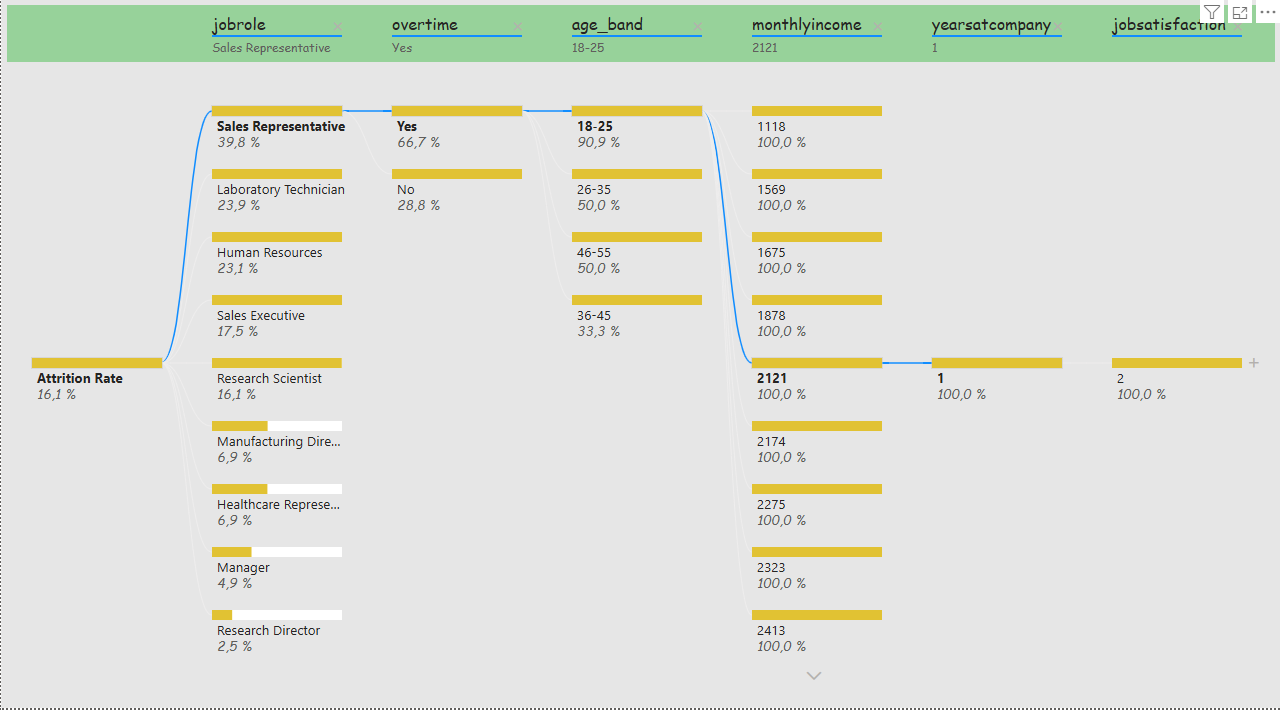

This screenshot's page, from the dashboard's own definition file:
{"tool":"powerbi","page":{"name":"Seite 2","canvas":[1280,720],"ordinal":1},"visuals":[{"type":"decompositionTreeVisual","fields":{"Analyze":["Meansures.Attrition Rate"],"ExplainBy":["Dim_JobRole.jobrole","fact_HR.overtime","Dim_AgeBand.age_band","fact_HR.monthlyincome","fact_HR.yearsatcompany","fact_HR.jobsatisfaction","Dim_TenureBand.tenure_band","Dim_Department.department","fact_HR.environmentsatisfaction"]},"box":[0,11,1280,709],"z":0}]}

Visuals, with their boxes on the page's 1280x720 design canvas (x1, y1, x2, y2). These are canvas units, not pixel positions in the 1280x712 screenshot, which may show the page scaled, cropped or inside an application window:
decompositionTreeVisual - Meansures.Attrition Rate x Dim_JobRole.jobrole: bbox=(0, 11, 1280, 720)
